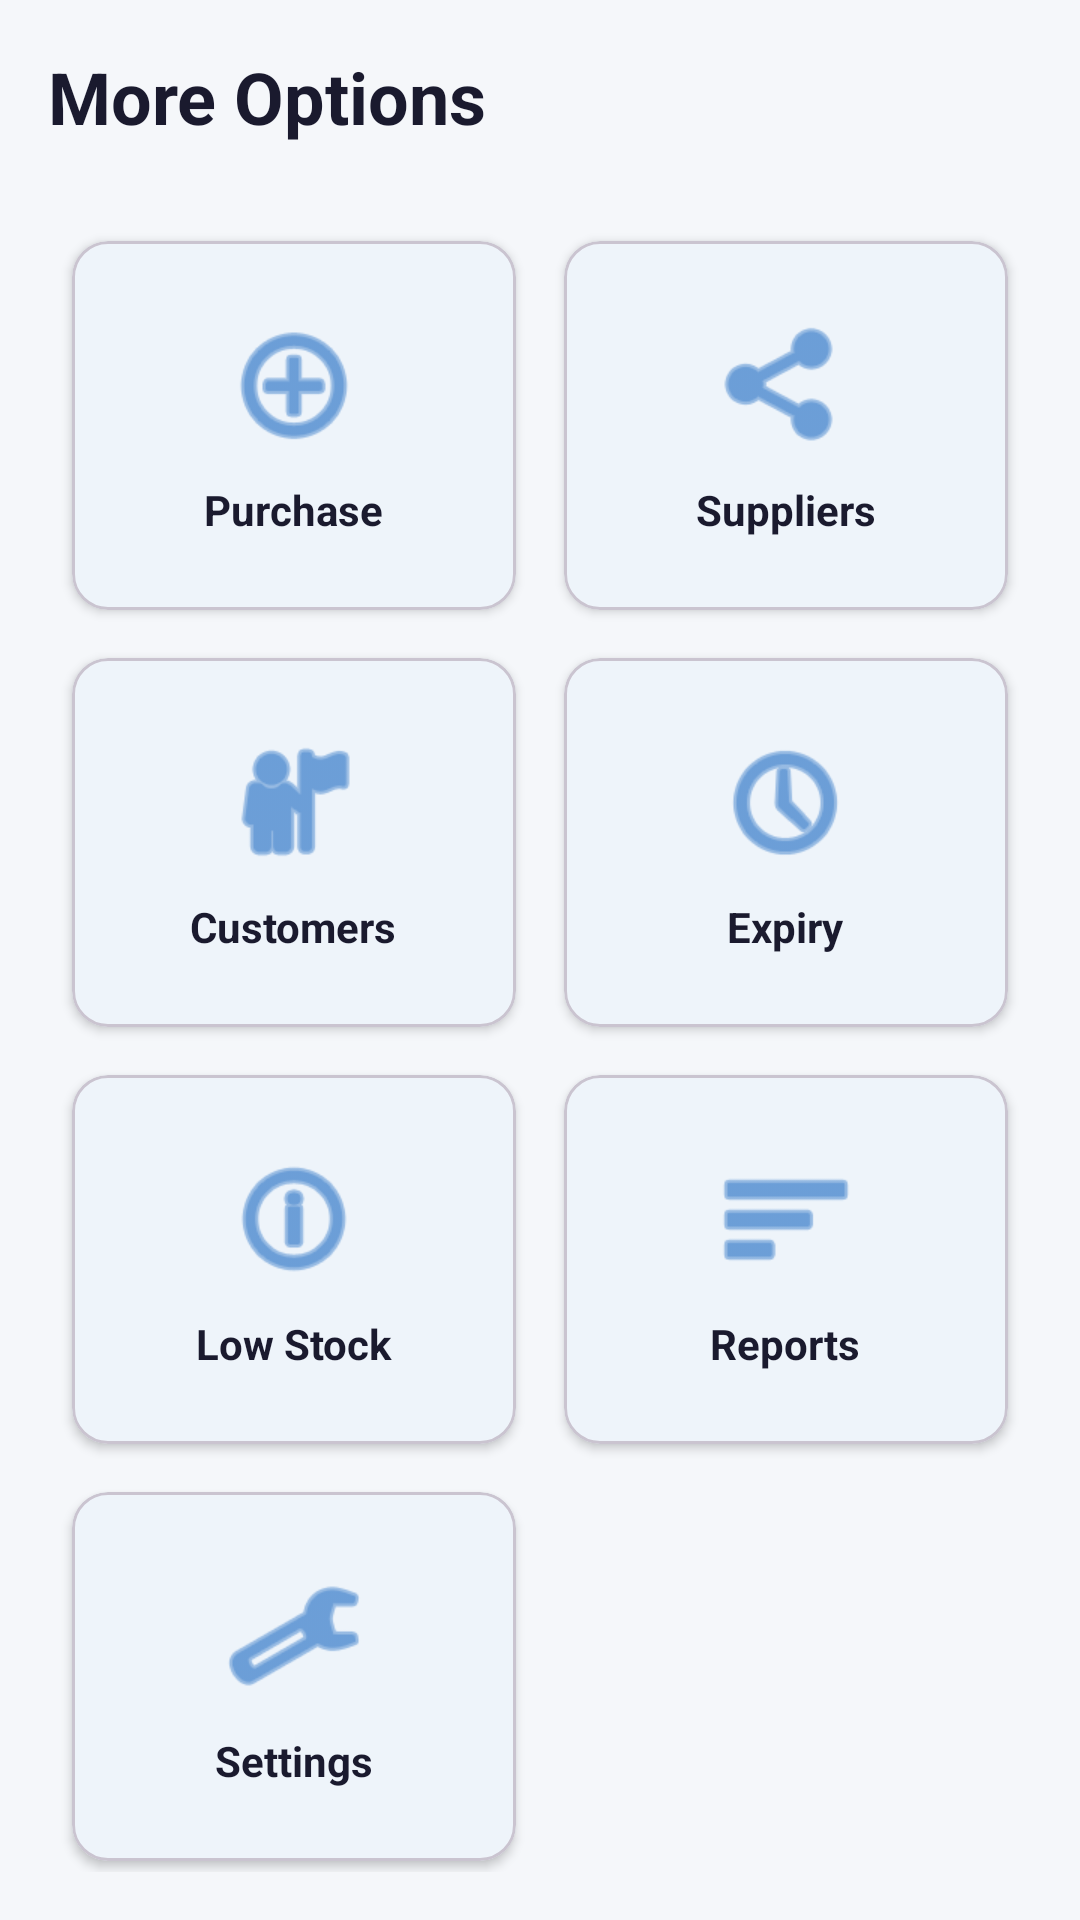

Icons on this 1080px×1920px Android screen, each with the point to tap as (x=x, y=y):
add: (x=293, y=385)
info details: (x=294, y=1219)
myplaces: (x=295, y=802)
preferences: (x=294, y=1636)
recent history: (x=785, y=803)
share: (x=778, y=384)
sort by size: (x=786, y=1219)
